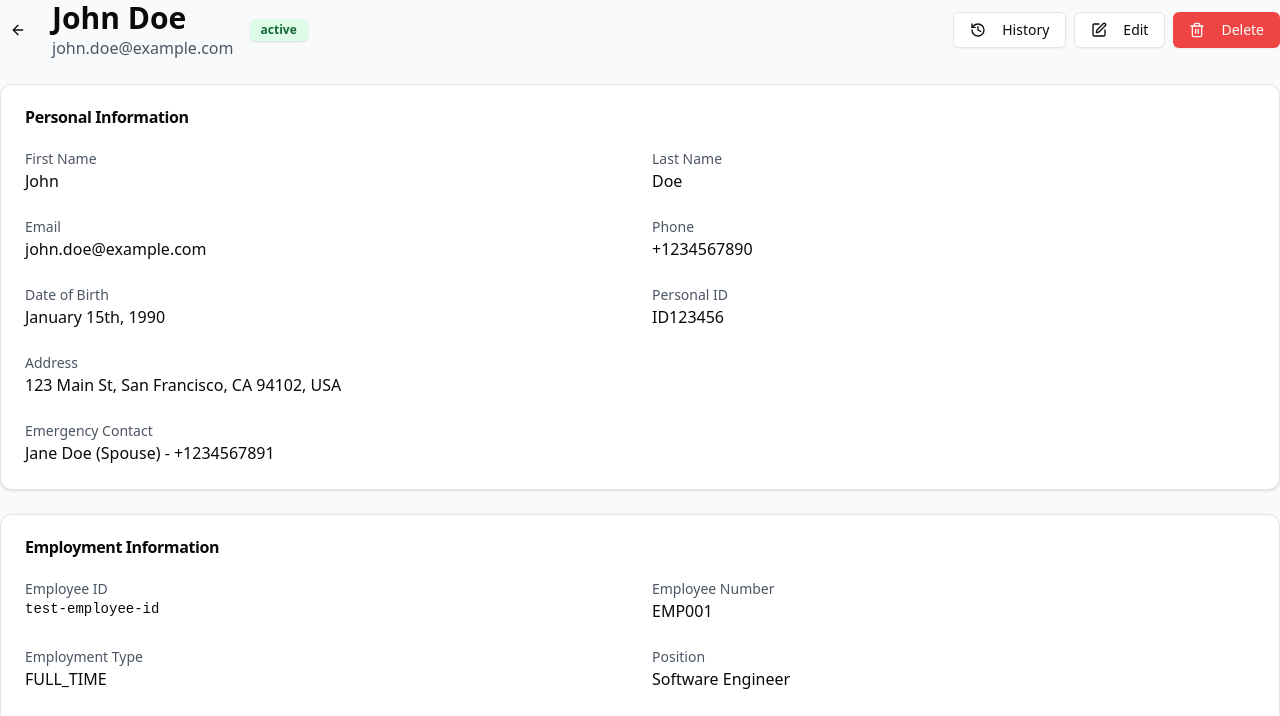
Test: EmployeeDetail › History View › renders history items correctly without errors
Click the button "History" at (1010, 30), box [953,12,1066,48]
(page scrolled)
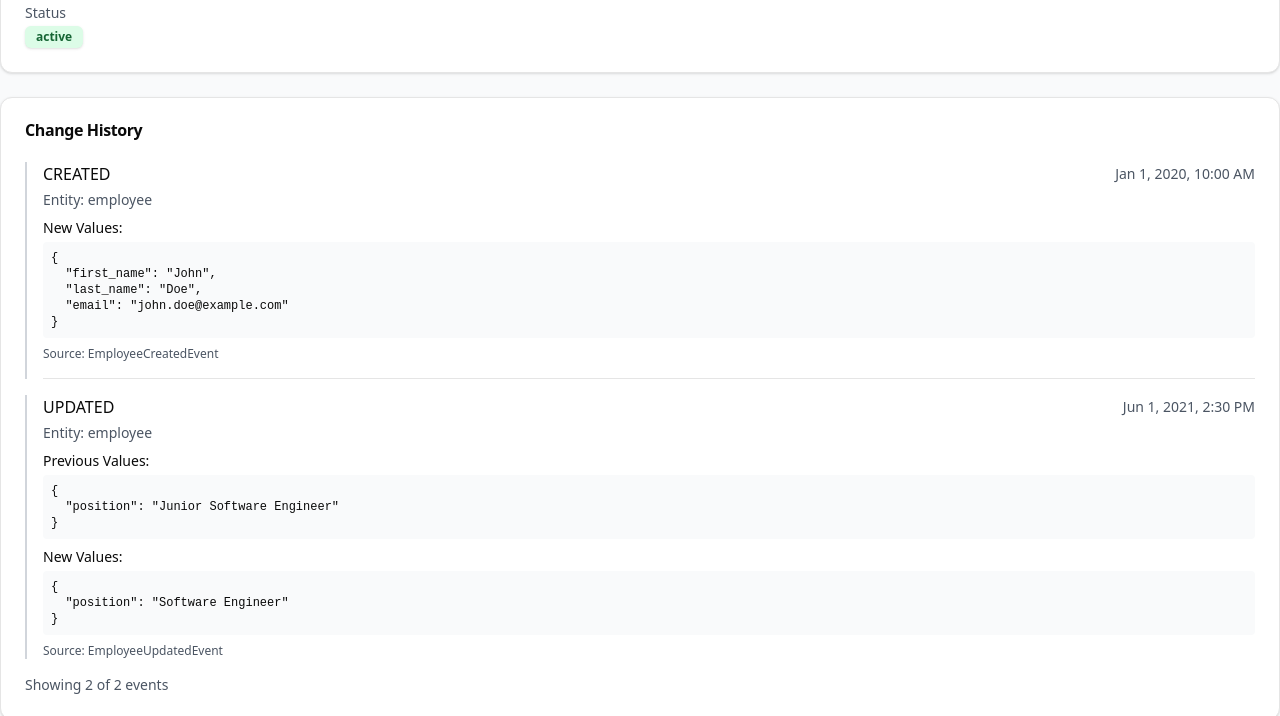
Now the text "Change History" is shown, box [25,119,142,141]
Now the text "CREATED" is shown, box [43,162,110,186]
Now the text "UPDATED" is shown, box [43,395,114,419]
